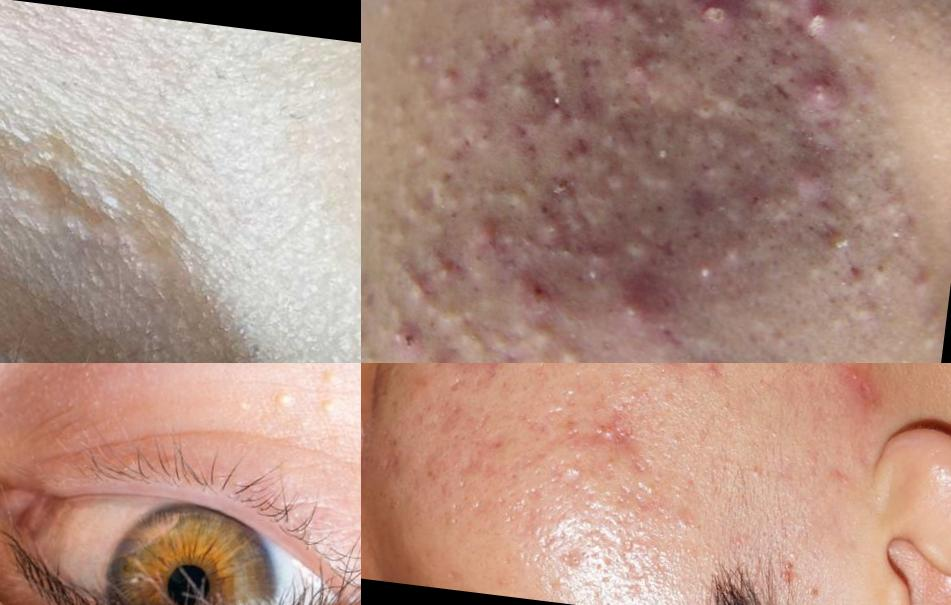acne_scars: (568, 389, 645, 460), (435, 364, 518, 382)
blackhead: (556, 529, 600, 588)
milium: (265, 365, 349, 422)
papular: (416, 23, 497, 117), (396, 235, 453, 308), (678, 175, 743, 230), (513, 267, 566, 319), (567, 1, 623, 30), (791, 152, 824, 200)
purulent: (613, 278, 671, 338), (688, 1, 745, 38), (799, 70, 839, 111), (804, 1, 829, 34)
sebo-crystan-conglo: (388, 313, 428, 363), (532, 41, 573, 77), (472, 110, 502, 156)
syringoma: (1, 12, 215, 264)
whitehead: (464, 166, 548, 221), (514, 314, 596, 364), (424, 301, 484, 354), (603, 222, 659, 270), (674, 242, 728, 290), (839, 1, 894, 40), (790, 251, 834, 295), (636, 154, 680, 197), (362, 70, 387, 143), (459, 243, 500, 283), (689, 88, 725, 133), (645, 21, 688, 56), (368, 1, 418, 28), (833, 152, 865, 194), (598, 88, 636, 123), (905, 252, 931, 303), (408, 130, 439, 172), (362, 172, 384, 222), (862, 246, 889, 285), (515, 221, 538, 263), (875, 199, 909, 226), (677, 349, 738, 364), (495, 1, 550, 13), (756, 352, 789, 364)
